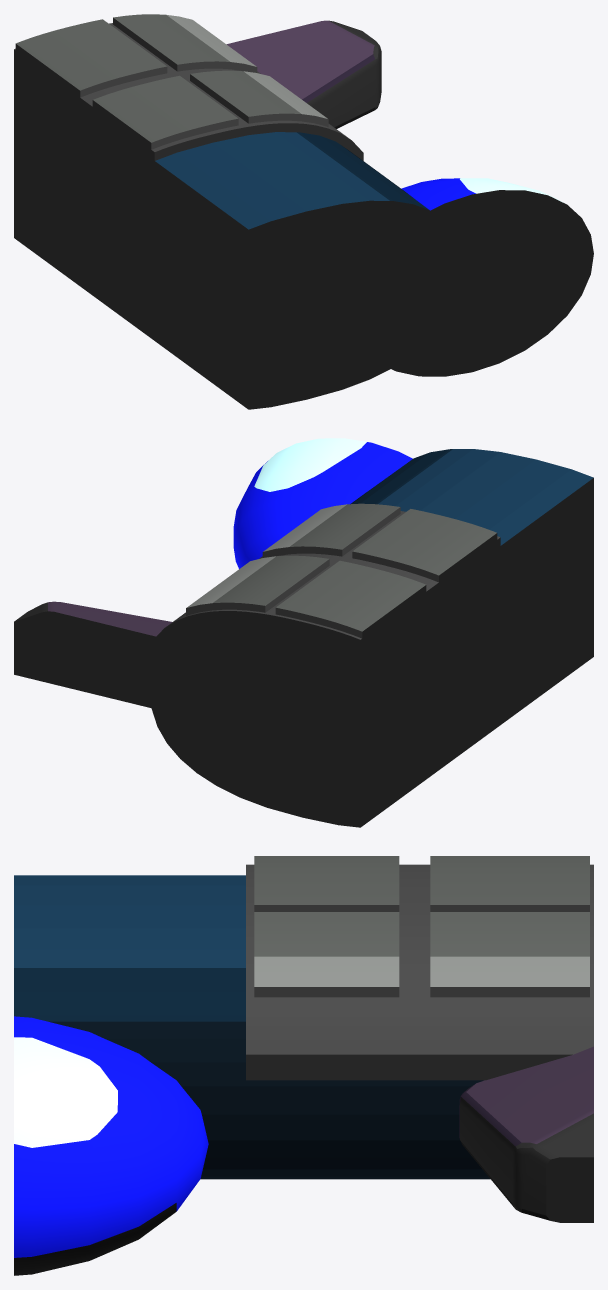
Rendered from camanis_boss_45.glb.
The picture shows the model from 3 angles, top to bottom: view 1: azimuth 30°, elevation 25°; view 2: azimuth 150°, elevation 25°; view 3: azimuth 270°, elevation 25°; orthographic projection. The views are drawn at different scales.
Visible parts, largest first — view 1: camanis_boss_45; view 2: camanis_boss_45; view 3: camanis_boss_45.
Part boxes in pixels (box(x1,y1,x2,y2)): camanis_boss_45: box(14, 14, 593, 409); camanis_boss_45: box(14, 438, 593, 827); camanis_boss_45: box(14, 856, 593, 1275).
Size of the model in its own units: 24 by 14.26 by 28.
